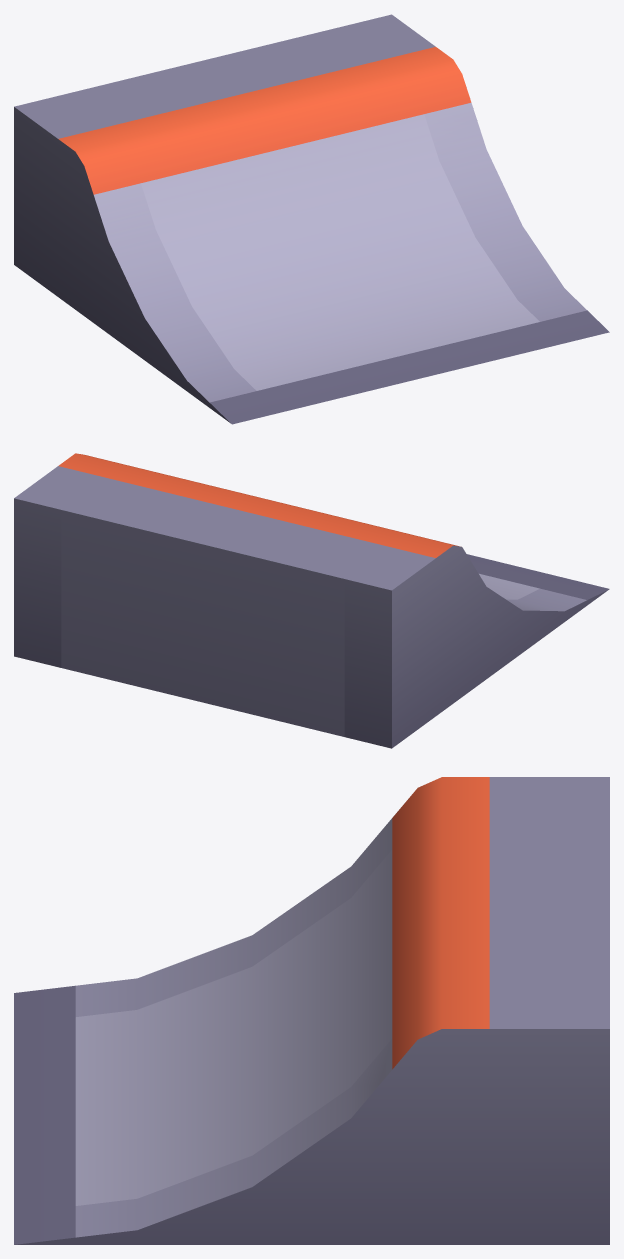
Rendered from bowl-side-low.glb.
The picture shows the model from 3 angles, top to bottom: view 1: azimuth 30°, elevation 25°; view 2: azimuth 150°, elevation 25°; view 3: azimuth 270°, elevation 25°; orthographic projection. The views are drawn at different scales.
Parts seen in each view (by area): view 1: bowl-side-low; view 2: bowl-side-low; view 3: bowl-side-low.
Part boxes in pixels (box(x1,y1,x2,y2)): bowl-side-low: box(14, 14, 609, 424); bowl-side-low: box(14, 453, 609, 748); bowl-side-low: box(14, 777, 609, 1244).
Bounding box in the file's own units: 1 × 0.3999 × 1.
Materials: 1 (1 with a texture image).
